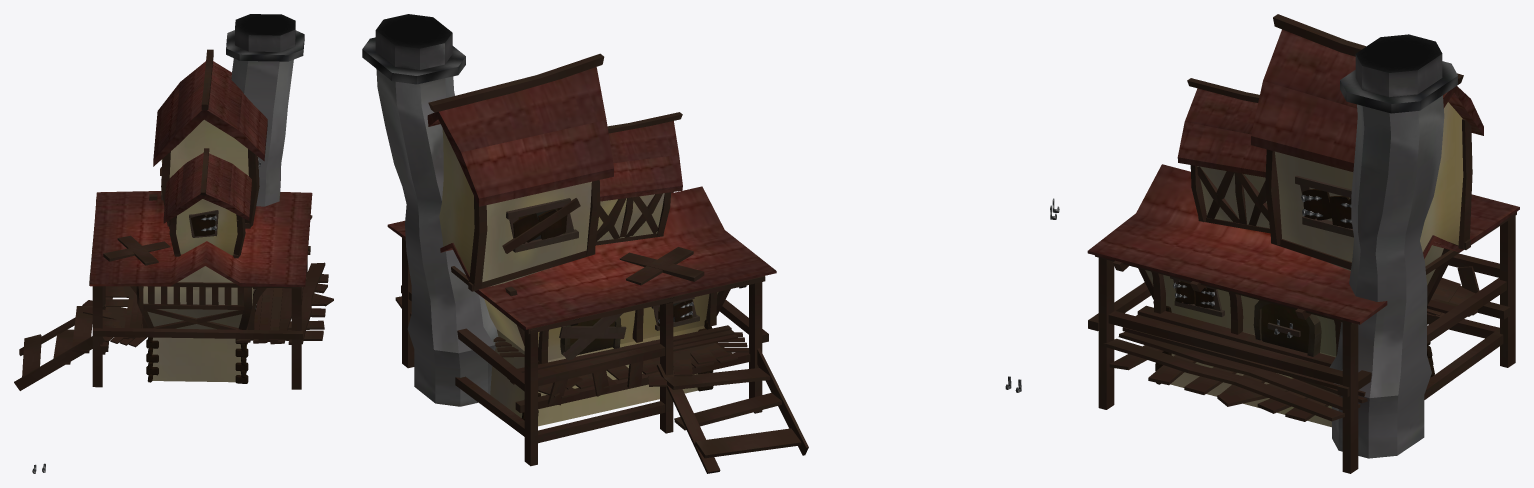
Rendered from german_house_6.glb.
The picture shows the model from 3 angles, left to right: view 1: azimuth 30°, elevation 25°; view 2: azimuth 150°, elevation 25°; view 3: azimuth 270°, elevation 25°; orthographic projection. The views are drawn at different scales.
Parts seen in each view (by area): view 1: casita501_Material #103_0; view 2: casita501_Material #103_0; view 3: casita501_Material #103_0.
Part boxes in pixels (<box>): casita501_Material #103_0: <box>14,14,333,473</box>; casita501_Material #103_0: <box>362,14,1021,473</box>; casita501_Material #103_0: <box>1050,14,1519,473</box>.
Size of the model in its own units: 8.47 by 5.86 by 6.08.
Materials: 1 (1 with a texture image).
